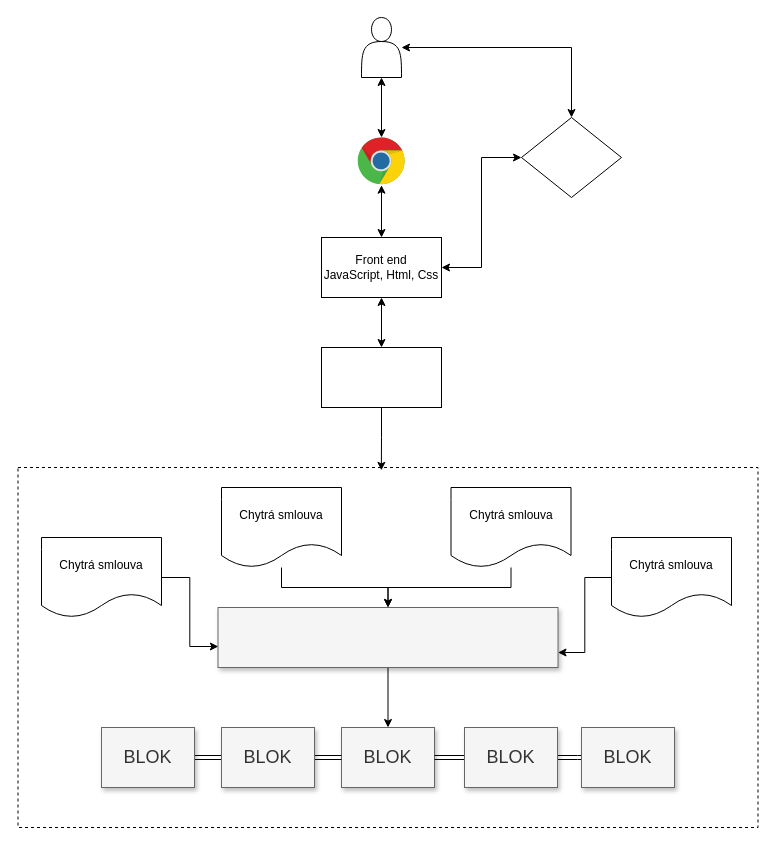
This 775x845 diagram has some shape labels left out. The shapes that lost their labels are listed below. From the top down, each one's centre as x and y in pixels, then its label:
At [571,157]: "MetaMask".
At [381,377]: "Provider Ether.js, Web3.js".
At [388,638]: "Ethereum Virtual Machine (EVM)".
